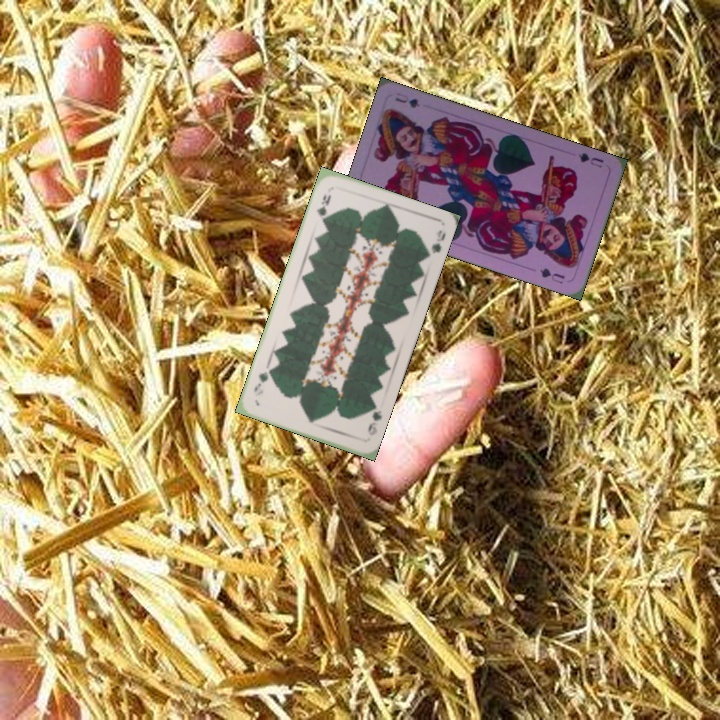G9: (363, 401, 385, 438), (313, 190, 334, 224)
GU: (574, 149, 606, 171)
